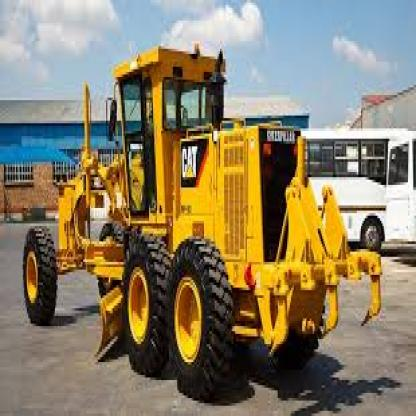bull_dozer/loader/grader: (23, 28, 382, 395)
